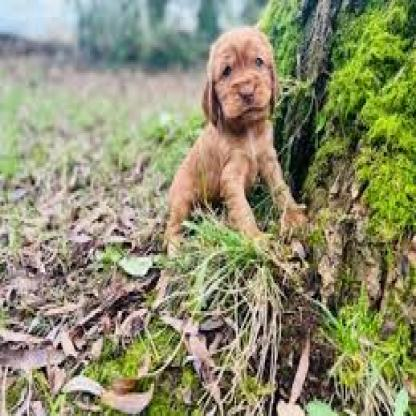Dandie Dinmont Terrier: (157, 16, 312, 266)
